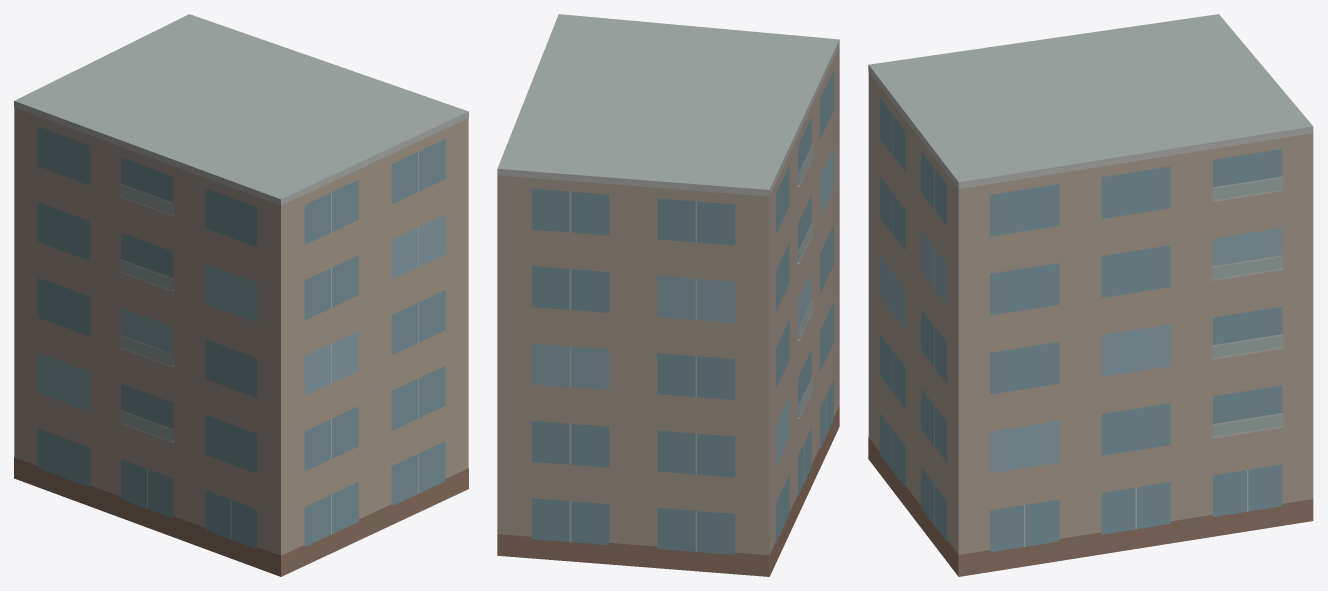
Rendered from survey-upis-32723434.glb.
The picture shows the model from 3 angles, left to right: view 1: azimuth 30°, elevation 25°; view 2: azimuth 150°, elevation 25°; view 3: azimuth 270°, elevation 25°; orthographic projection. The views are drawn at different scales.
Visible parts, largest first — view 1: survey-upis-32723434.tmp; view 2: survey-upis-32723434.tmp; view 3: survey-upis-32723434.tmp.
Part boxes in pixels (<box>): survey-upis-32723434.tmp: <box>14,14,468,576</box>; survey-upis-32723434.tmp: <box>497,14,839,576</box>; survey-upis-32723434.tmp: <box>868,14,1313,576</box>.
Size of the model in its own units: 13.1 by 14.3 by 14.62.
